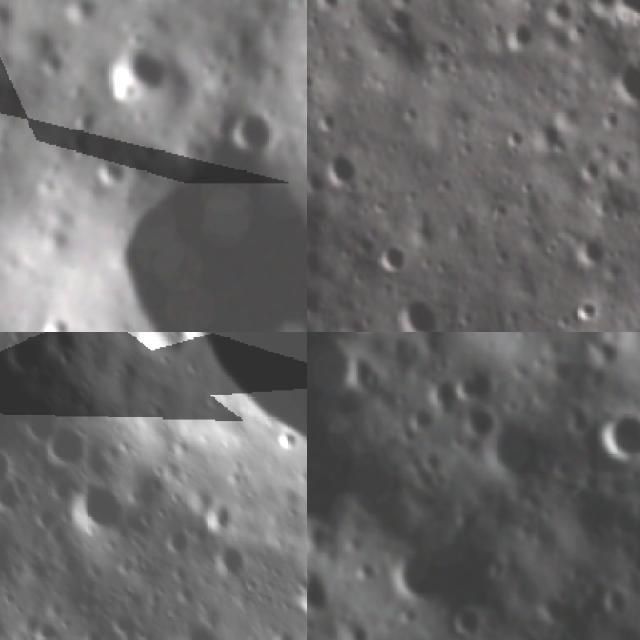crater: (33, 332, 307, 571), (384, 544, 458, 615), (487, 418, 556, 489), (69, 478, 135, 543), (584, 403, 640, 474), (110, 42, 173, 103), (316, 132, 364, 194), (44, 417, 96, 474), (388, 283, 448, 332), (15, 385, 68, 440), (451, 359, 502, 414), (230, 103, 278, 161), (605, 51, 640, 113), (521, 113, 566, 157), (568, 229, 612, 271), (0, 505, 19, 596), (598, 581, 635, 624), (307, 569, 337, 617), (450, 606, 487, 640), (373, 242, 410, 275), (575, 151, 608, 188), (287, 567, 307, 616), (0, 439, 21, 484), (568, 298, 599, 328), (339, 616, 373, 640), (174, 627, 232, 640), (581, 0, 621, 15)
